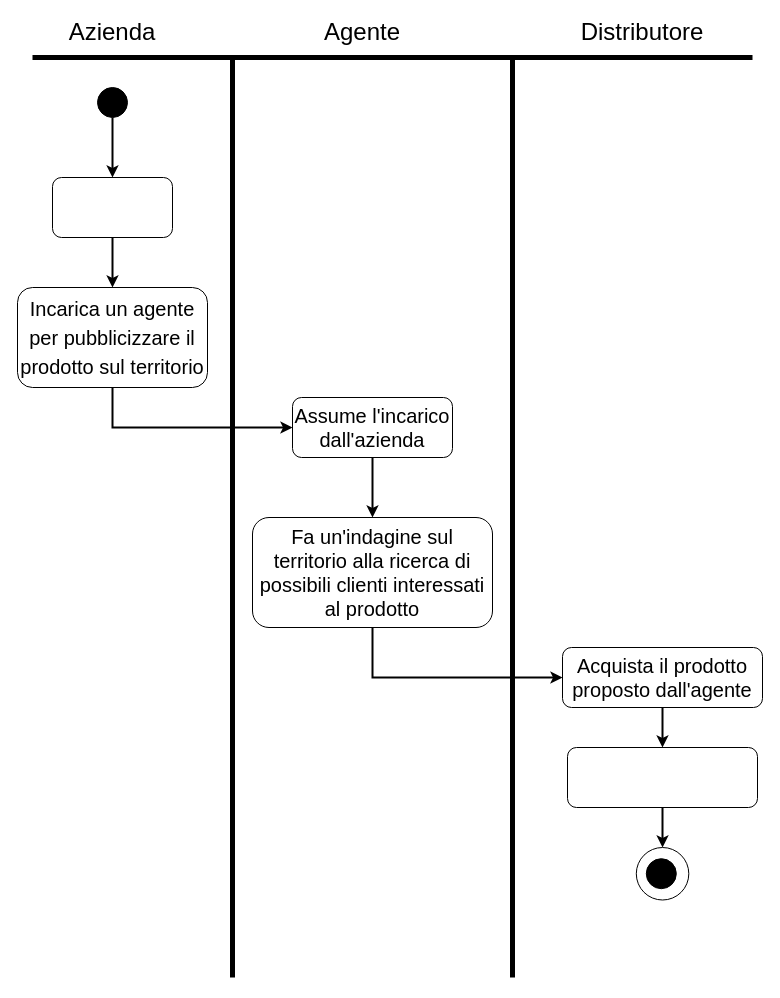
This 780x998 diagram has some shape labels left out. Here are the shapes that lost their labels. From the top down, the box of each, then its label:
(52, 176, 172, 238): Crea un prodotto
(566, 746, 758, 808): Vende il prodotto alle attività commerciali
